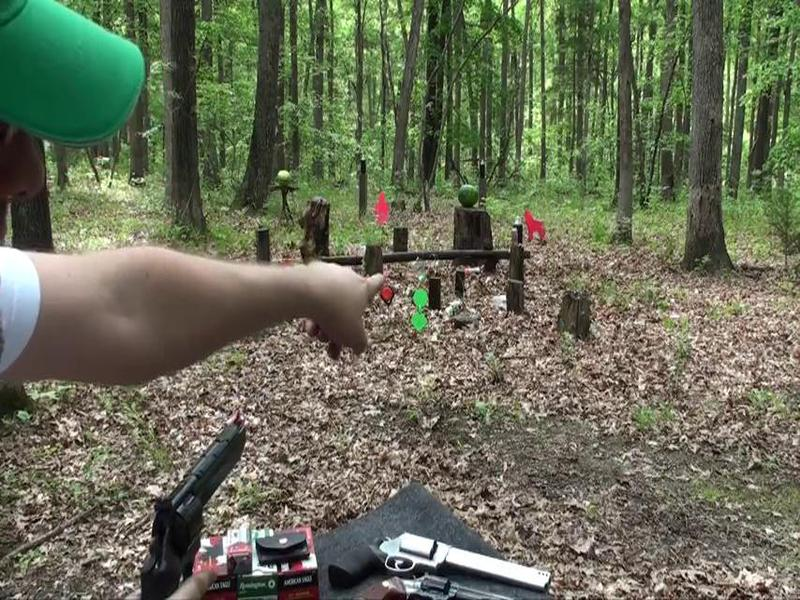Revolver: (127, 407, 287, 600)
